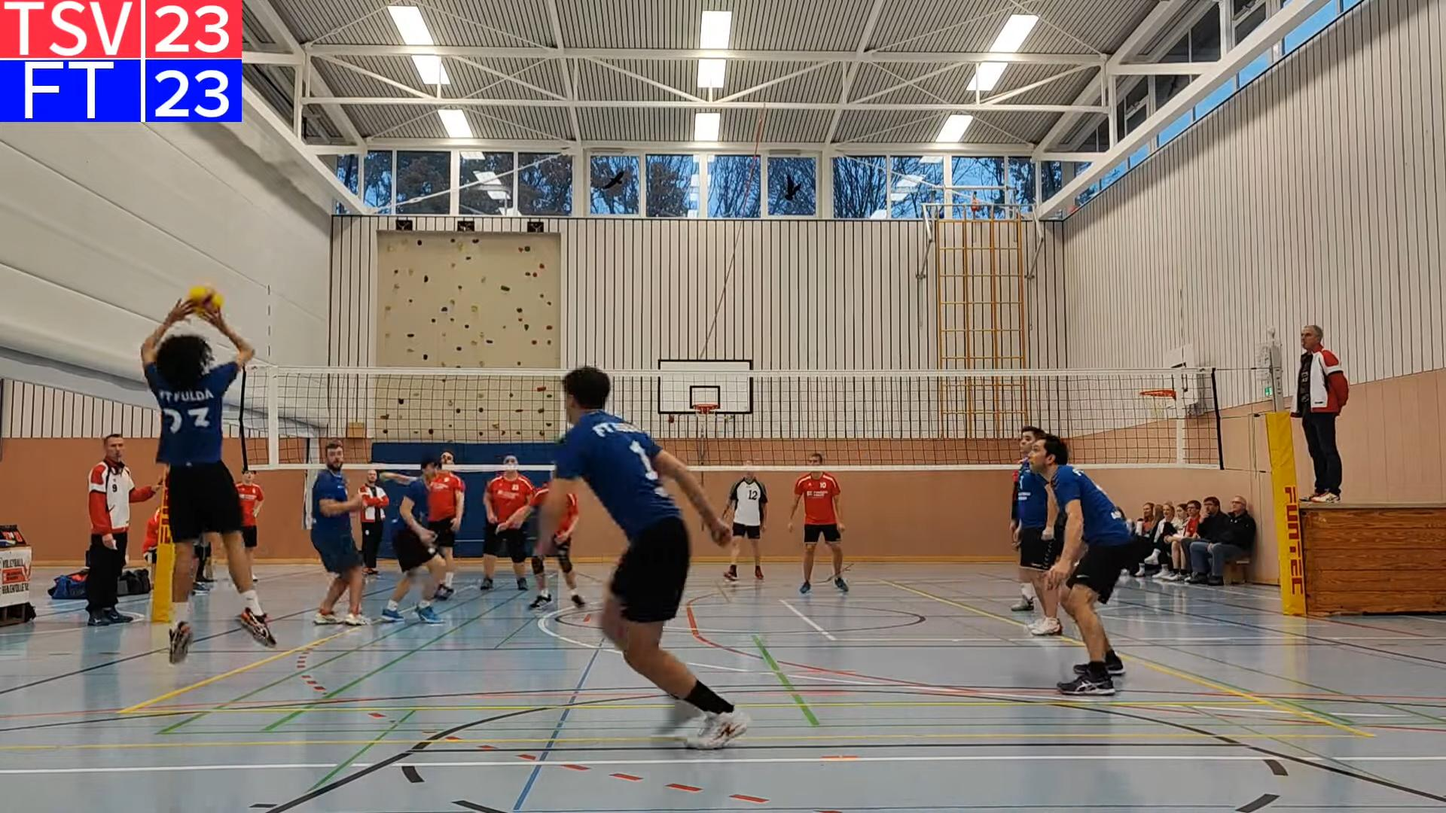difesa: (129, 296, 260, 670)
